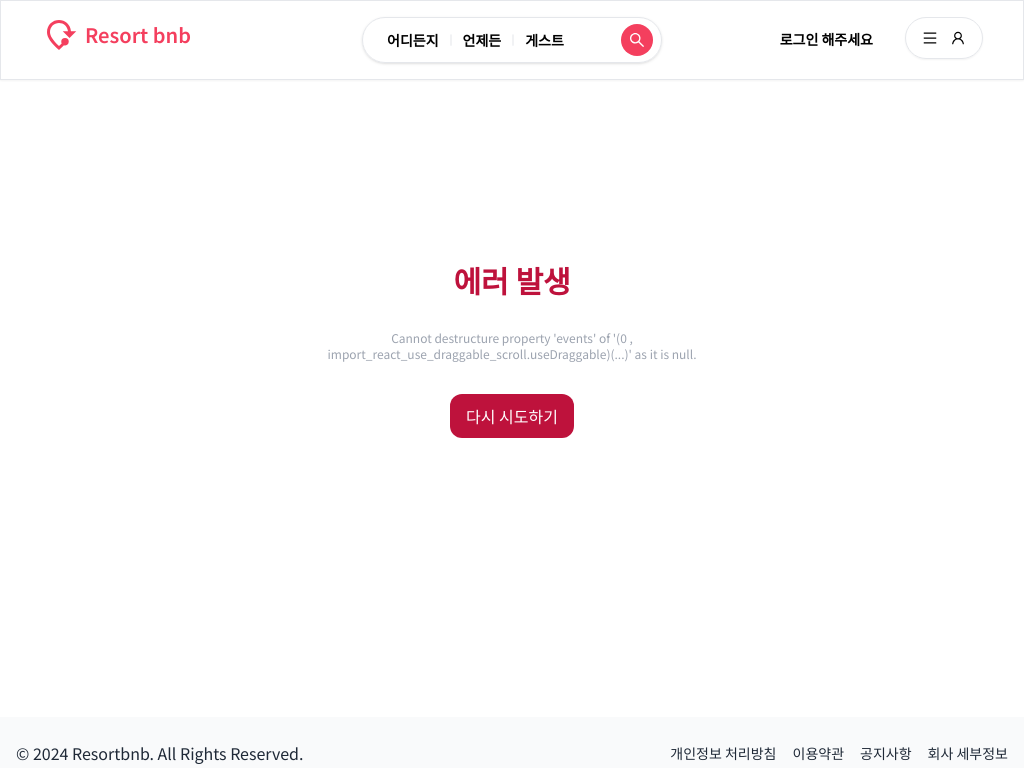
Test case: 지역 필터 테스트 진행 › 필터 열기 버튼을 눌러서 지역 상세 필터 열기 버튼 유무 확인
Click the element with test id "filter-open-btn" at (637, 40), box [621, 24, 653, 56]
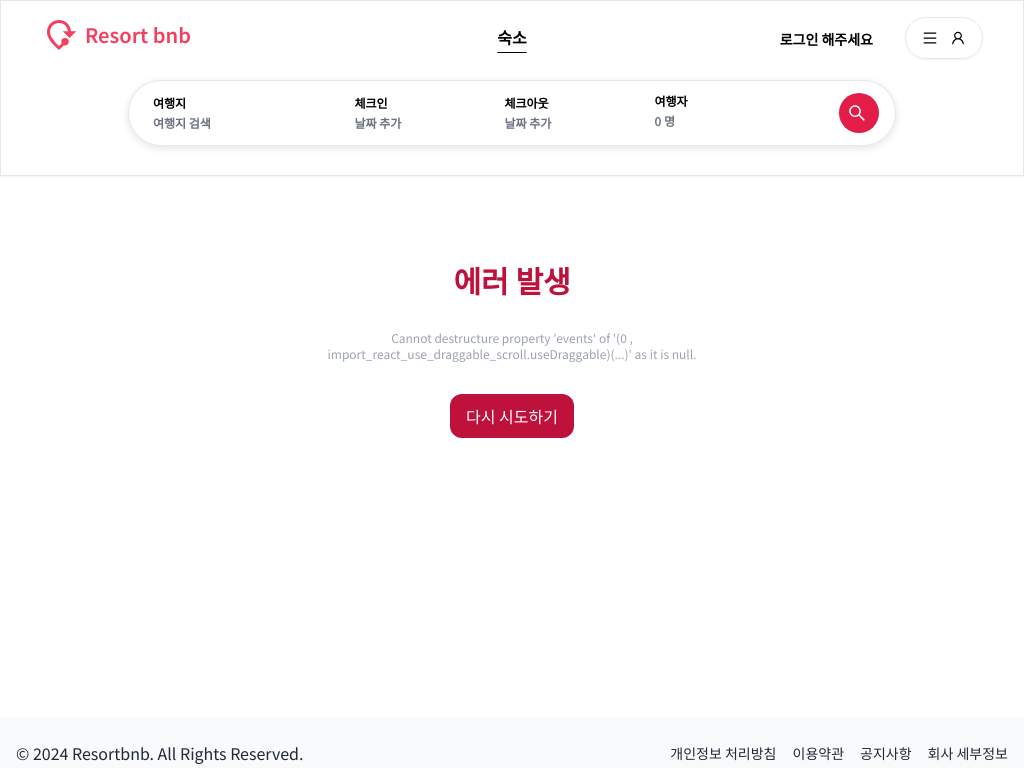
Check: the button "여행지 여행지 검색" is shown, box [129, 81, 330, 145]
